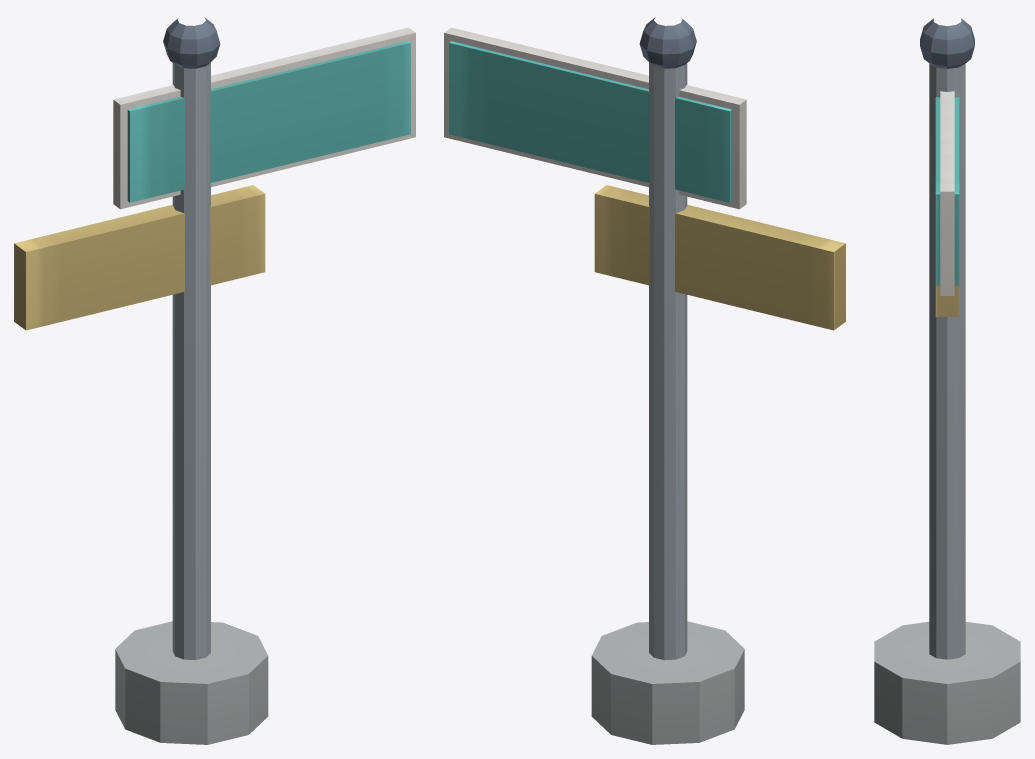
File: laneway_sign.glb
3 renders of one model, left to right at view 1: azimuth 30°, elevation 25°; view 2: azimuth 150°, elevation 25°; view 3: azimuth 270°, elevation 25°, orthographic.
Visible parts, largest first — view 1: laneway_sign; view 2: laneway_sign; view 3: laneway_sign.
Part boxes in pixels (x1,y1,x2,y2): laneway_sign: [14, 17, 415, 744]; laneway_sign: [444, 17, 845, 744]; laneway_sign: [874, 18, 1020, 744].
Bounding box in the file's own units: 1.88 × 3.2 × 0.6087.
1 material, 1 textured.
